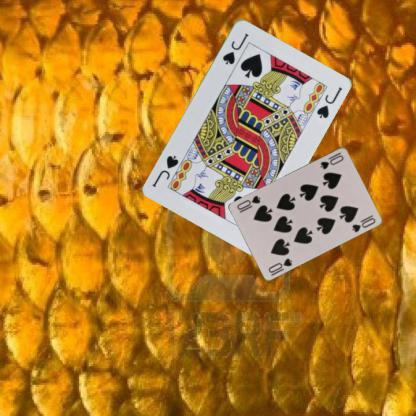10s: (318, 150, 345, 171), (266, 255, 293, 274)
Js: (220, 30, 250, 66)
